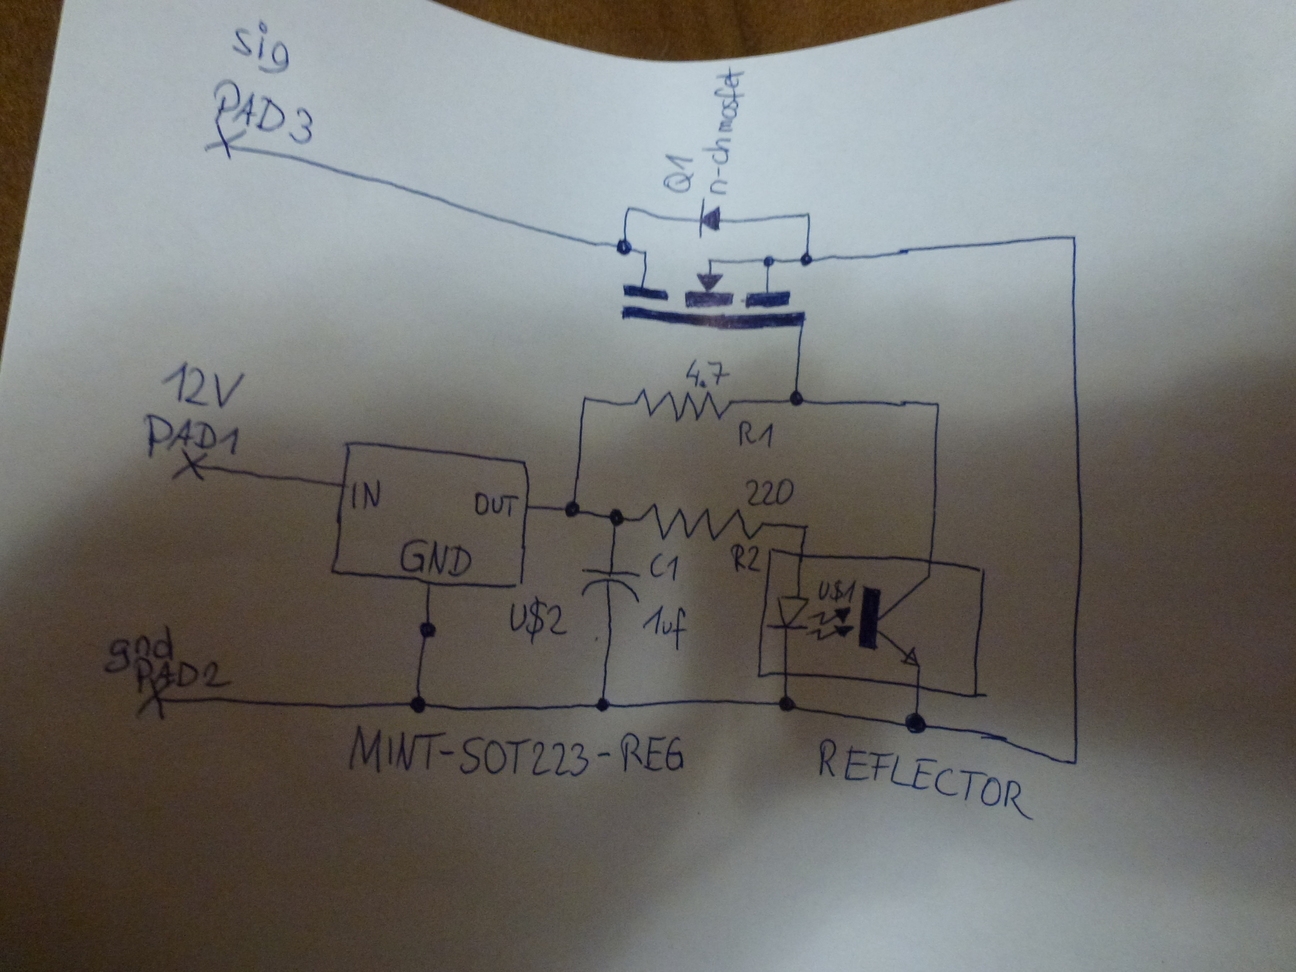capacitor.unpolarized: (578, 563, 646, 605)
diode: (695, 197, 725, 239)
integrated_circuit: (753, 544, 992, 704)
junction: (904, 708, 929, 736), (559, 495, 584, 521), (796, 247, 820, 272), (606, 505, 627, 529), (407, 692, 428, 716), (787, 387, 806, 409), (777, 693, 796, 714), (616, 237, 633, 260), (594, 694, 612, 715), (576, 390, 594, 408), (1064, 230, 1081, 247), (1067, 755, 1081, 769), (931, 397, 943, 409), (799, 521, 811, 532), (624, 202, 634, 214), (802, 208, 813, 218)
optocoupler: (762, 568, 936, 673)
resistor: (636, 498, 750, 544), (626, 384, 735, 424)
terminal: (132, 679, 182, 722), (202, 121, 247, 159), (170, 446, 209, 484)
text: (814, 737, 1038, 826), (335, 735, 687, 787), (205, 78, 315, 147), (700, 64, 748, 196), (143, 411, 242, 460), (158, 361, 244, 412), (100, 622, 176, 675), (131, 655, 235, 691), (230, 19, 292, 76), (505, 597, 569, 648), (398, 538, 471, 579), (641, 603, 692, 651), (741, 475, 794, 508), (660, 147, 697, 192), (733, 416, 776, 451), (684, 355, 730, 388), (470, 489, 515, 519), (814, 575, 859, 604), (348, 478, 384, 512), (646, 549, 682, 583), (727, 542, 762, 576)
transistor: (618, 241, 810, 335)
voltage.dc_regulator: (323, 439, 533, 591)
